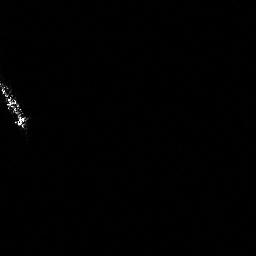ship: (1, 78, 35, 133)
